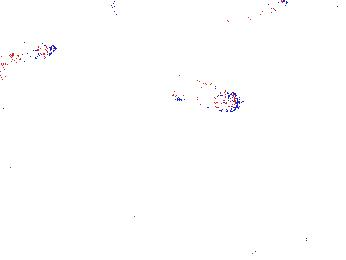X-ray fish: (181, 81, 246, 114)
glassfish: (218, 105, 324, 170)
redtail glassfish: (223, 1, 291, 32), (1, 40, 57, 74)
